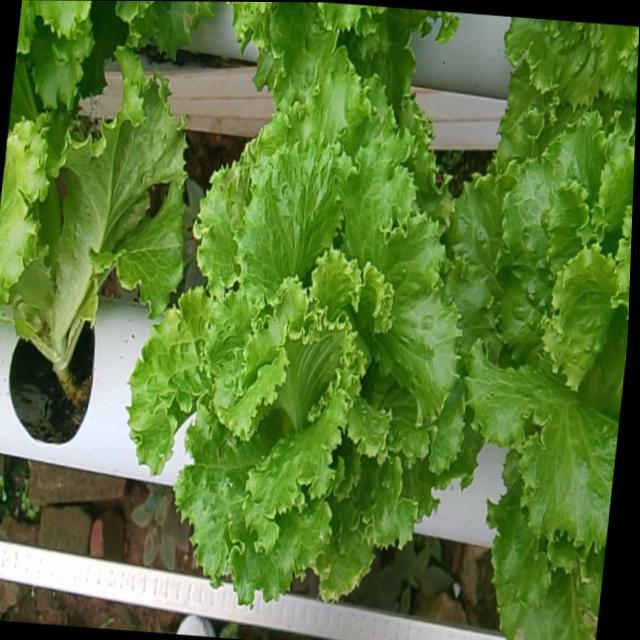Mature: (119, 82, 454, 619), (437, 121, 634, 570)
